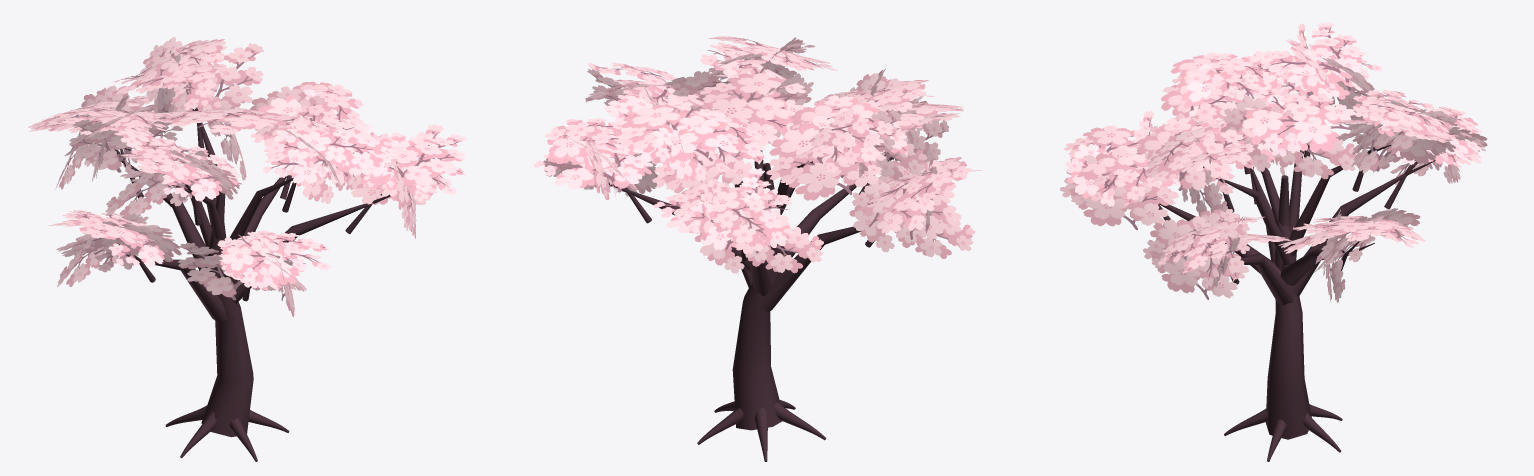
Rendered from sakura-tree.glb.
3 renders of one model, left to right at view 1: azimuth 30°, elevation 25°; view 2: azimuth 150°, elevation 25°; view 3: azimuth 270°, elevation 25°, orthographic. The views are drawn at different scales.
Parts seen in each view (by area): view 1: sakura-canopy, sakura-trunk; view 2: sakura-canopy, sakura-trunk; view 3: sakura-canopy, sakura-trunk.
Boxes of the visible parts, <box> form: sakura-canopy: <box>28,37,466,317</box>; sakura-trunk: <box>106,82,390,461</box>; sakura-canopy: <box>533,36,982,273</box>; sakura-trunk: <box>608,150,893,461</box>; sakura-canopy: <box>1060,22,1487,302</box>; sakura-trunk: <box>1158,143,1435,461</box>.
Bounding box in the file's own units: 9.57 × 7.69 × 9.59.
2 materials, 1 textured.
